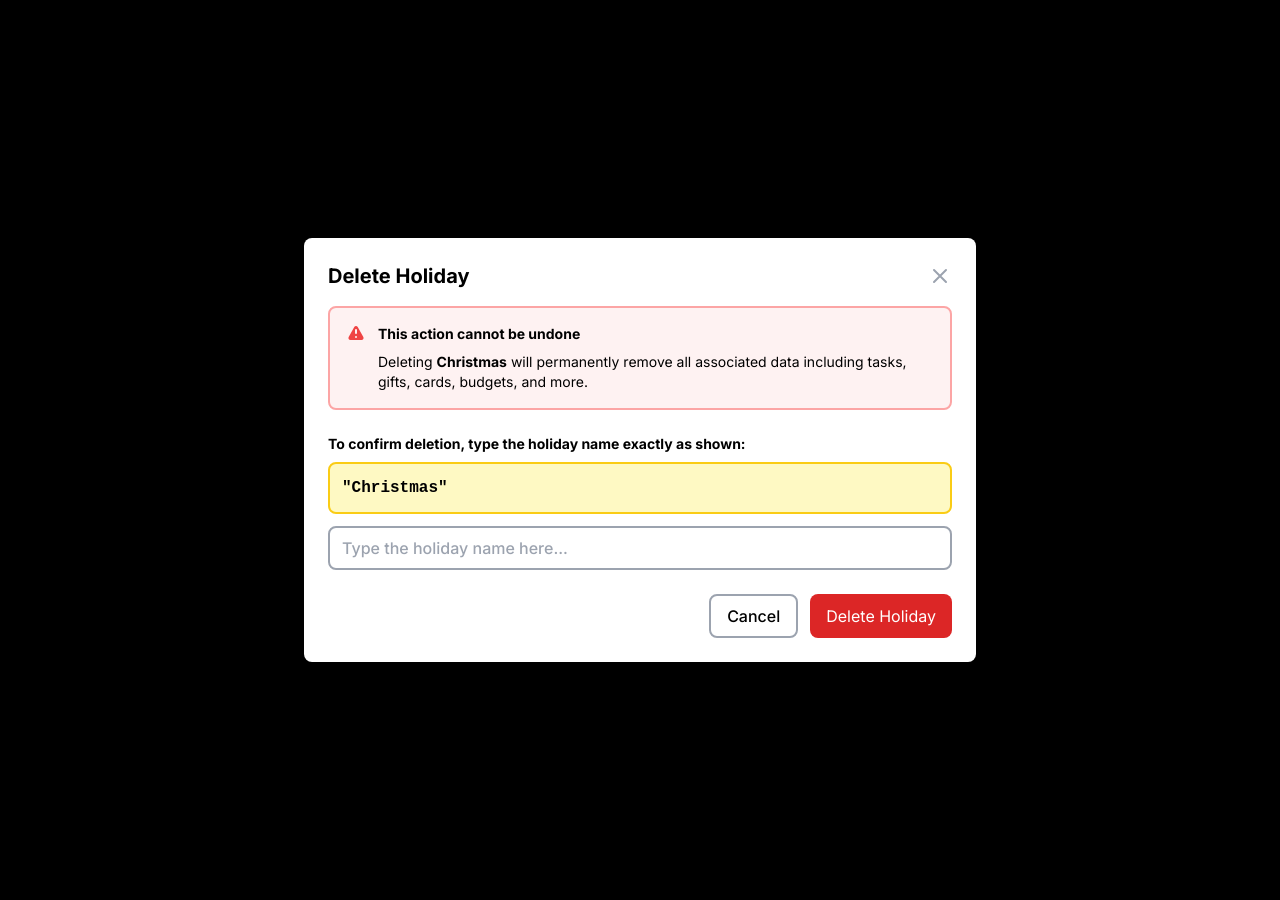
HolidayDeleteConfirmationModal › failures › falls back to the status text when the error body has no message
Type "Christmas" into the field with placeholder "Type the holiday name here...".
click(640, 548); type("Christmas")  # box [328, 526, 952, 570]
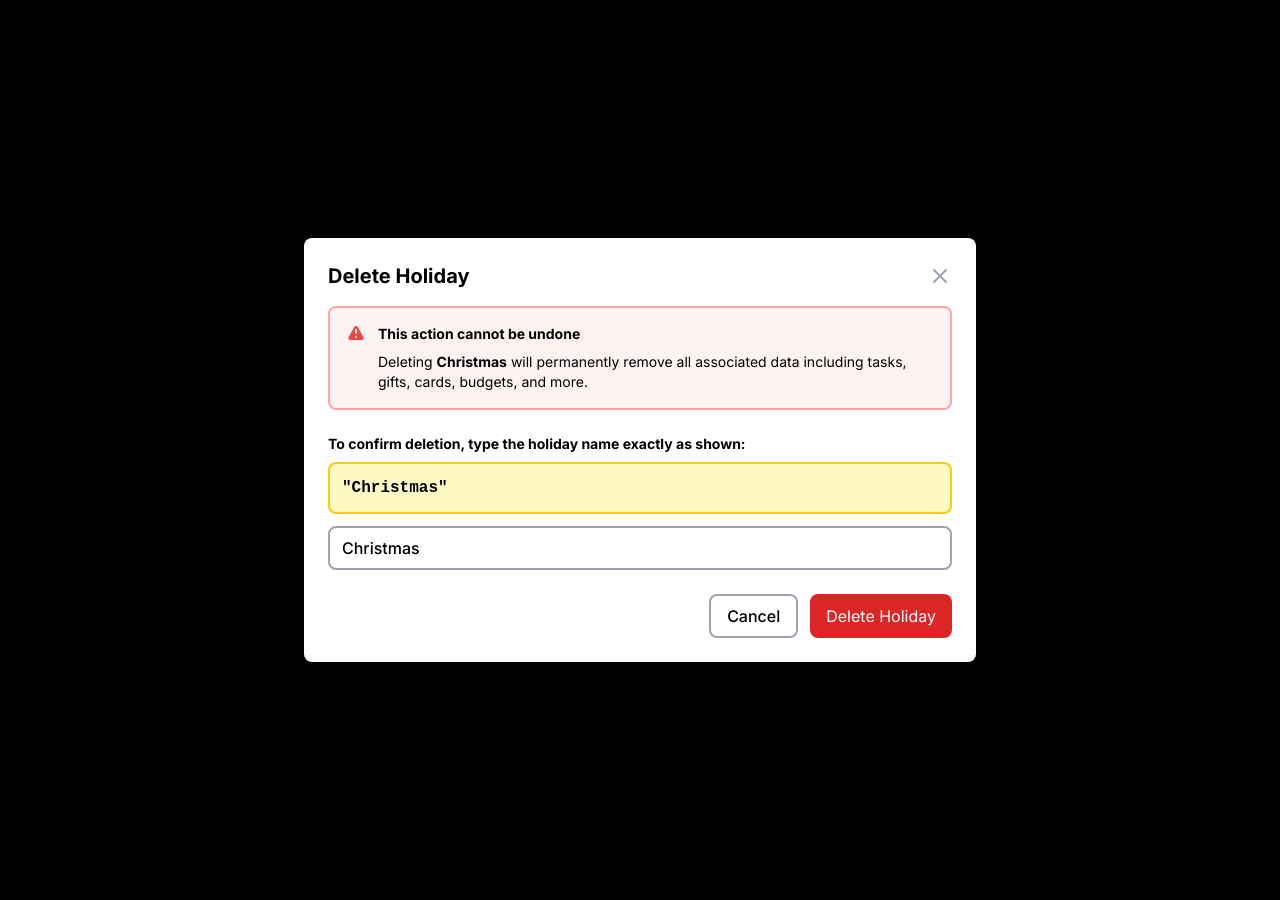
Click the button "Delete Holiday".
click(881, 616)  # box [810, 594, 952, 638]
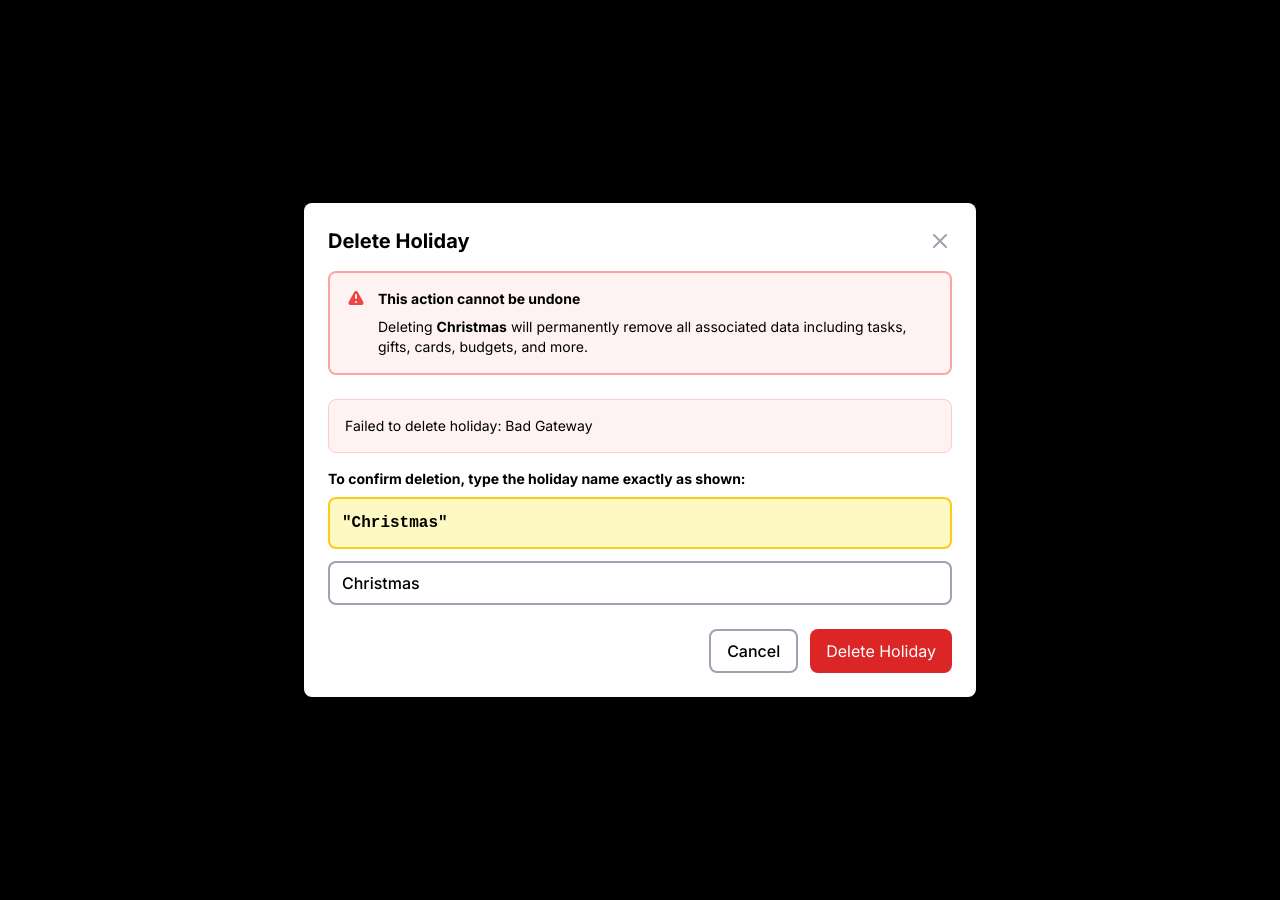
Now the text "Failed to delete holiday: Bad Gateway" is shown, box [345, 417, 592, 434]
